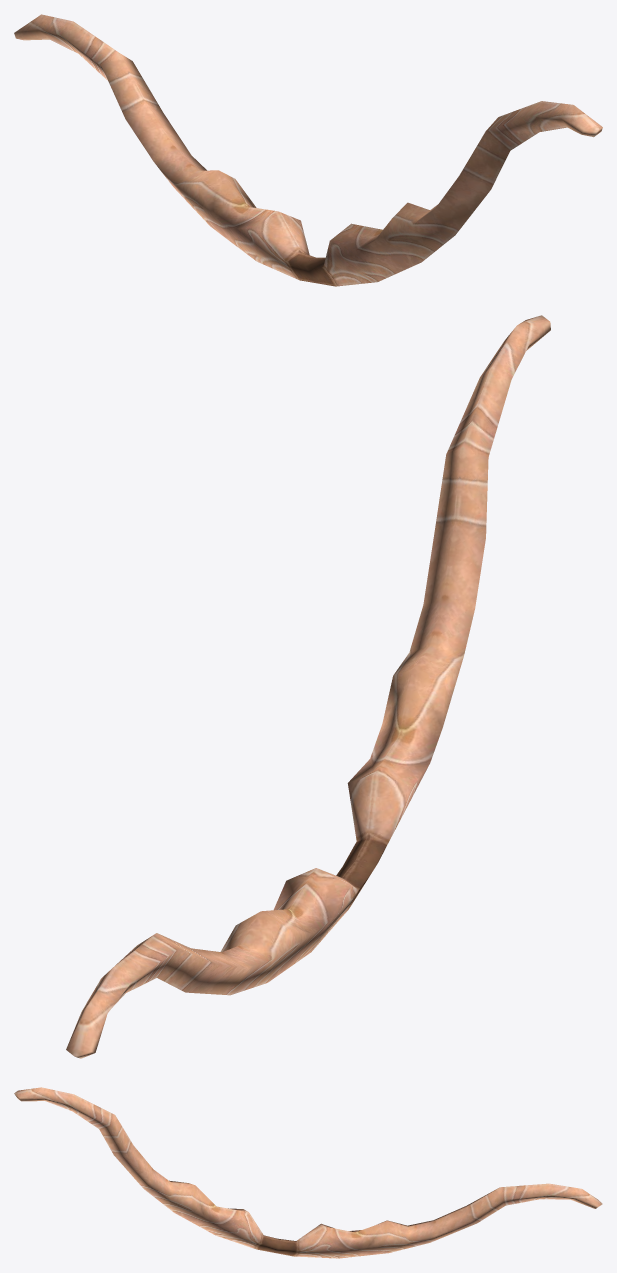
Rendered from rangedweapon-ironweapons.glb.
3 renders of one model, top to bottom at view 1: azimuth 30°, elevation 25°; view 2: azimuth 150°, elevation 25°; view 3: azimuth 270°, elevation 25°, orthographic. The views are drawn at different scales.
Bounding box in the file's own units: 0.2267 × 0.5786 × 1.6.
Materials: 1 (1 with a texture image).
